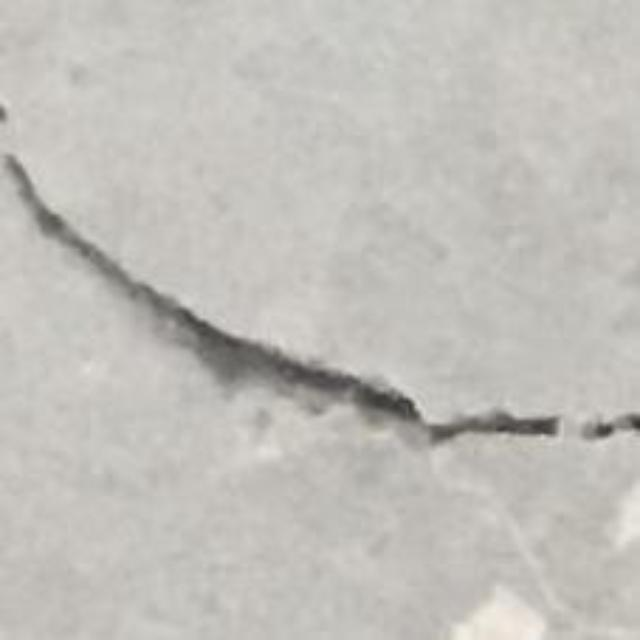crack: (3, 156, 563, 442)
peeling plaster: (449, 587, 546, 639)
